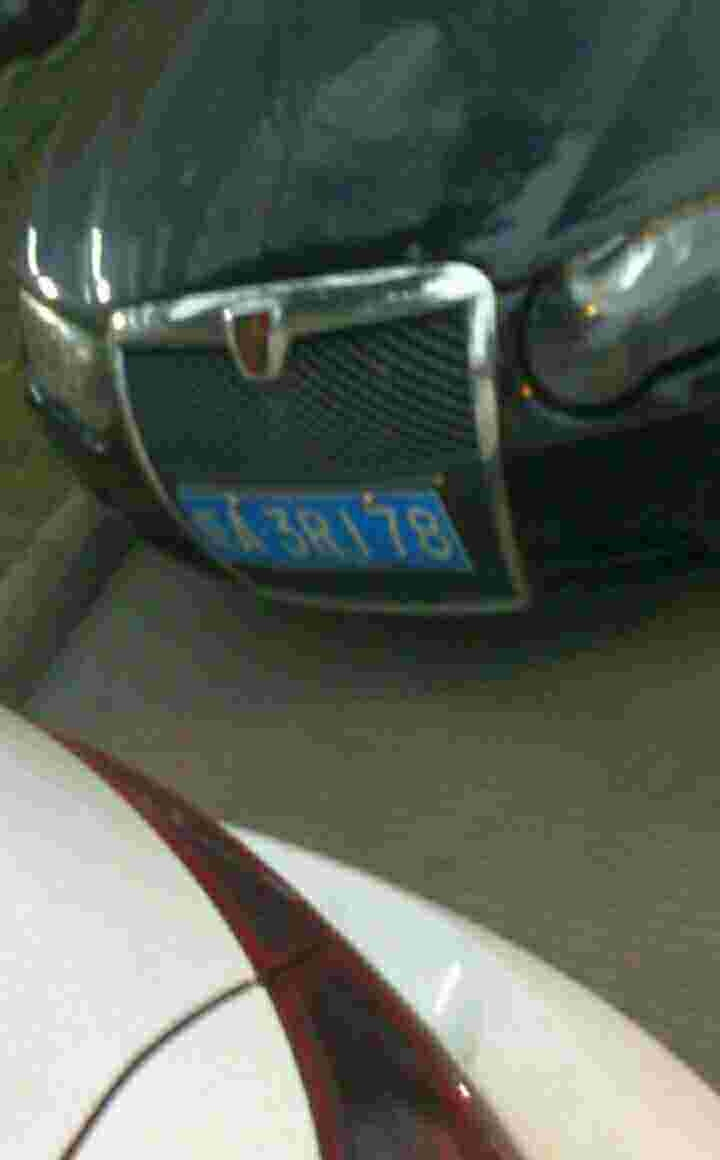license_plate: (166, 492, 481, 571)
